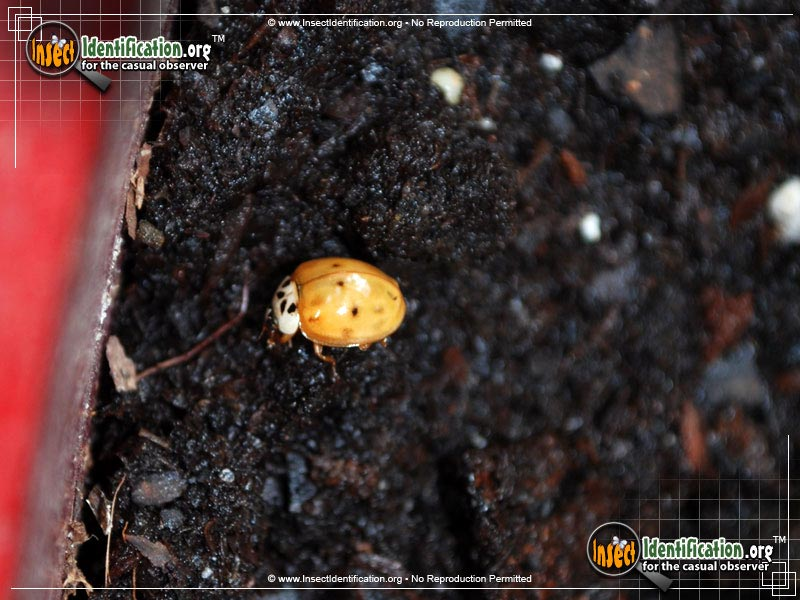Asian Multicolored Lady Beetle: (258, 249, 428, 362)
